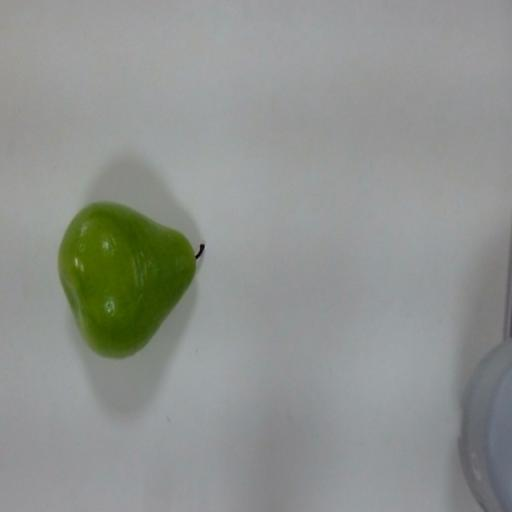Unripe: (45, 180, 215, 371)
